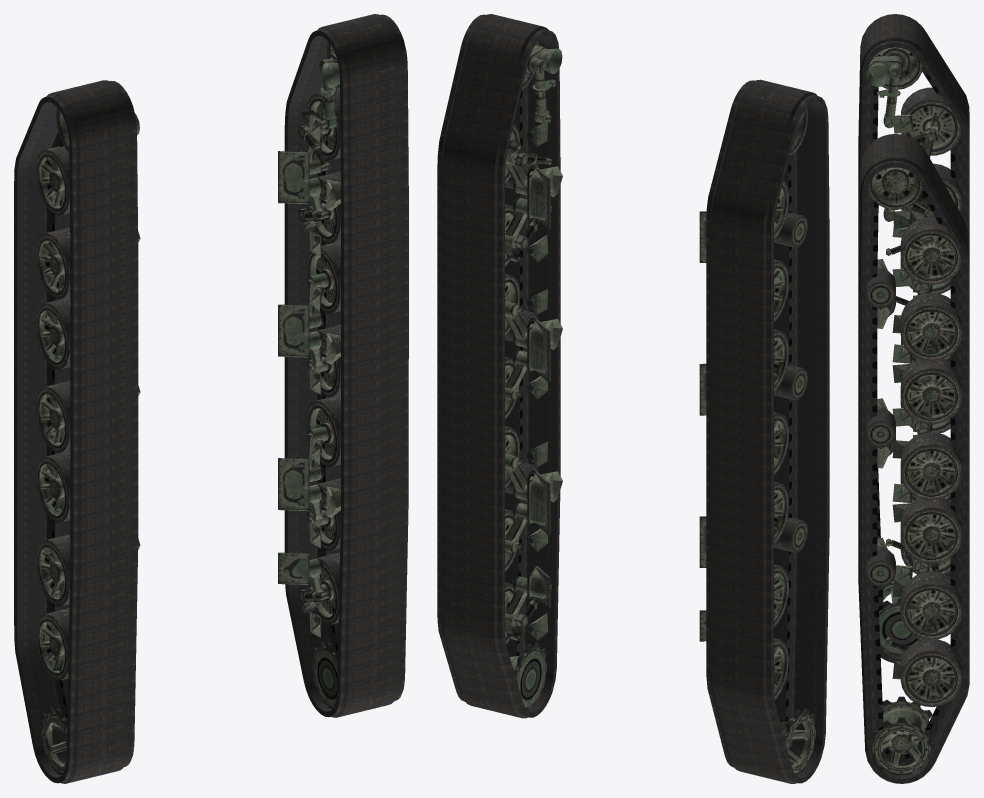
Rendered from Chassis.glb.
The picture shows the model from 3 angles, left to right: view 1: azimuth 30°, elevation 25°; view 2: azimuth 150°, elevation 25°; view 3: azimuth 270°, elevation 25°; orthographic projection. The views are drawn at different scales.
Parts seen in each view (by area): view 1: set_0_group_0, set_1_group_0, set_3_group_0, set_2_group_0; view 2: set_0_group_0, set_1_group_0, set_3_group_0, set_2_group_0; view 3: set_3_group_0, set_1_group_0, set_2_group_0, set_0_group_0.
Part boxes in pixels (box(x1,y1,x2,y2)): set_0_group_0: box(14, 80, 138, 783); set_1_group_0: box(284, 14, 408, 717); set_3_group_0: box(278, 41, 340, 708); set_2_group_0: box(35, 108, 140, 775); set_0_group_0: box(706, 79, 829, 783); set_1_group_0: box(437, 14, 560, 718); set_3_group_0: box(505, 42, 562, 709); set_2_group_0: box(699, 107, 815, 775); set_3_group_0: box(865, 167, 962, 775); set_1_group_0: box(858, 134, 969, 783); set_2_group_0: box(866, 47, 962, 656); set_0_group_0: box(858, 14, 969, 662).
Size of the model in its own units: 3.41 by 6.68 by 1.08.
Materials: 4 (4 with a texture image).
